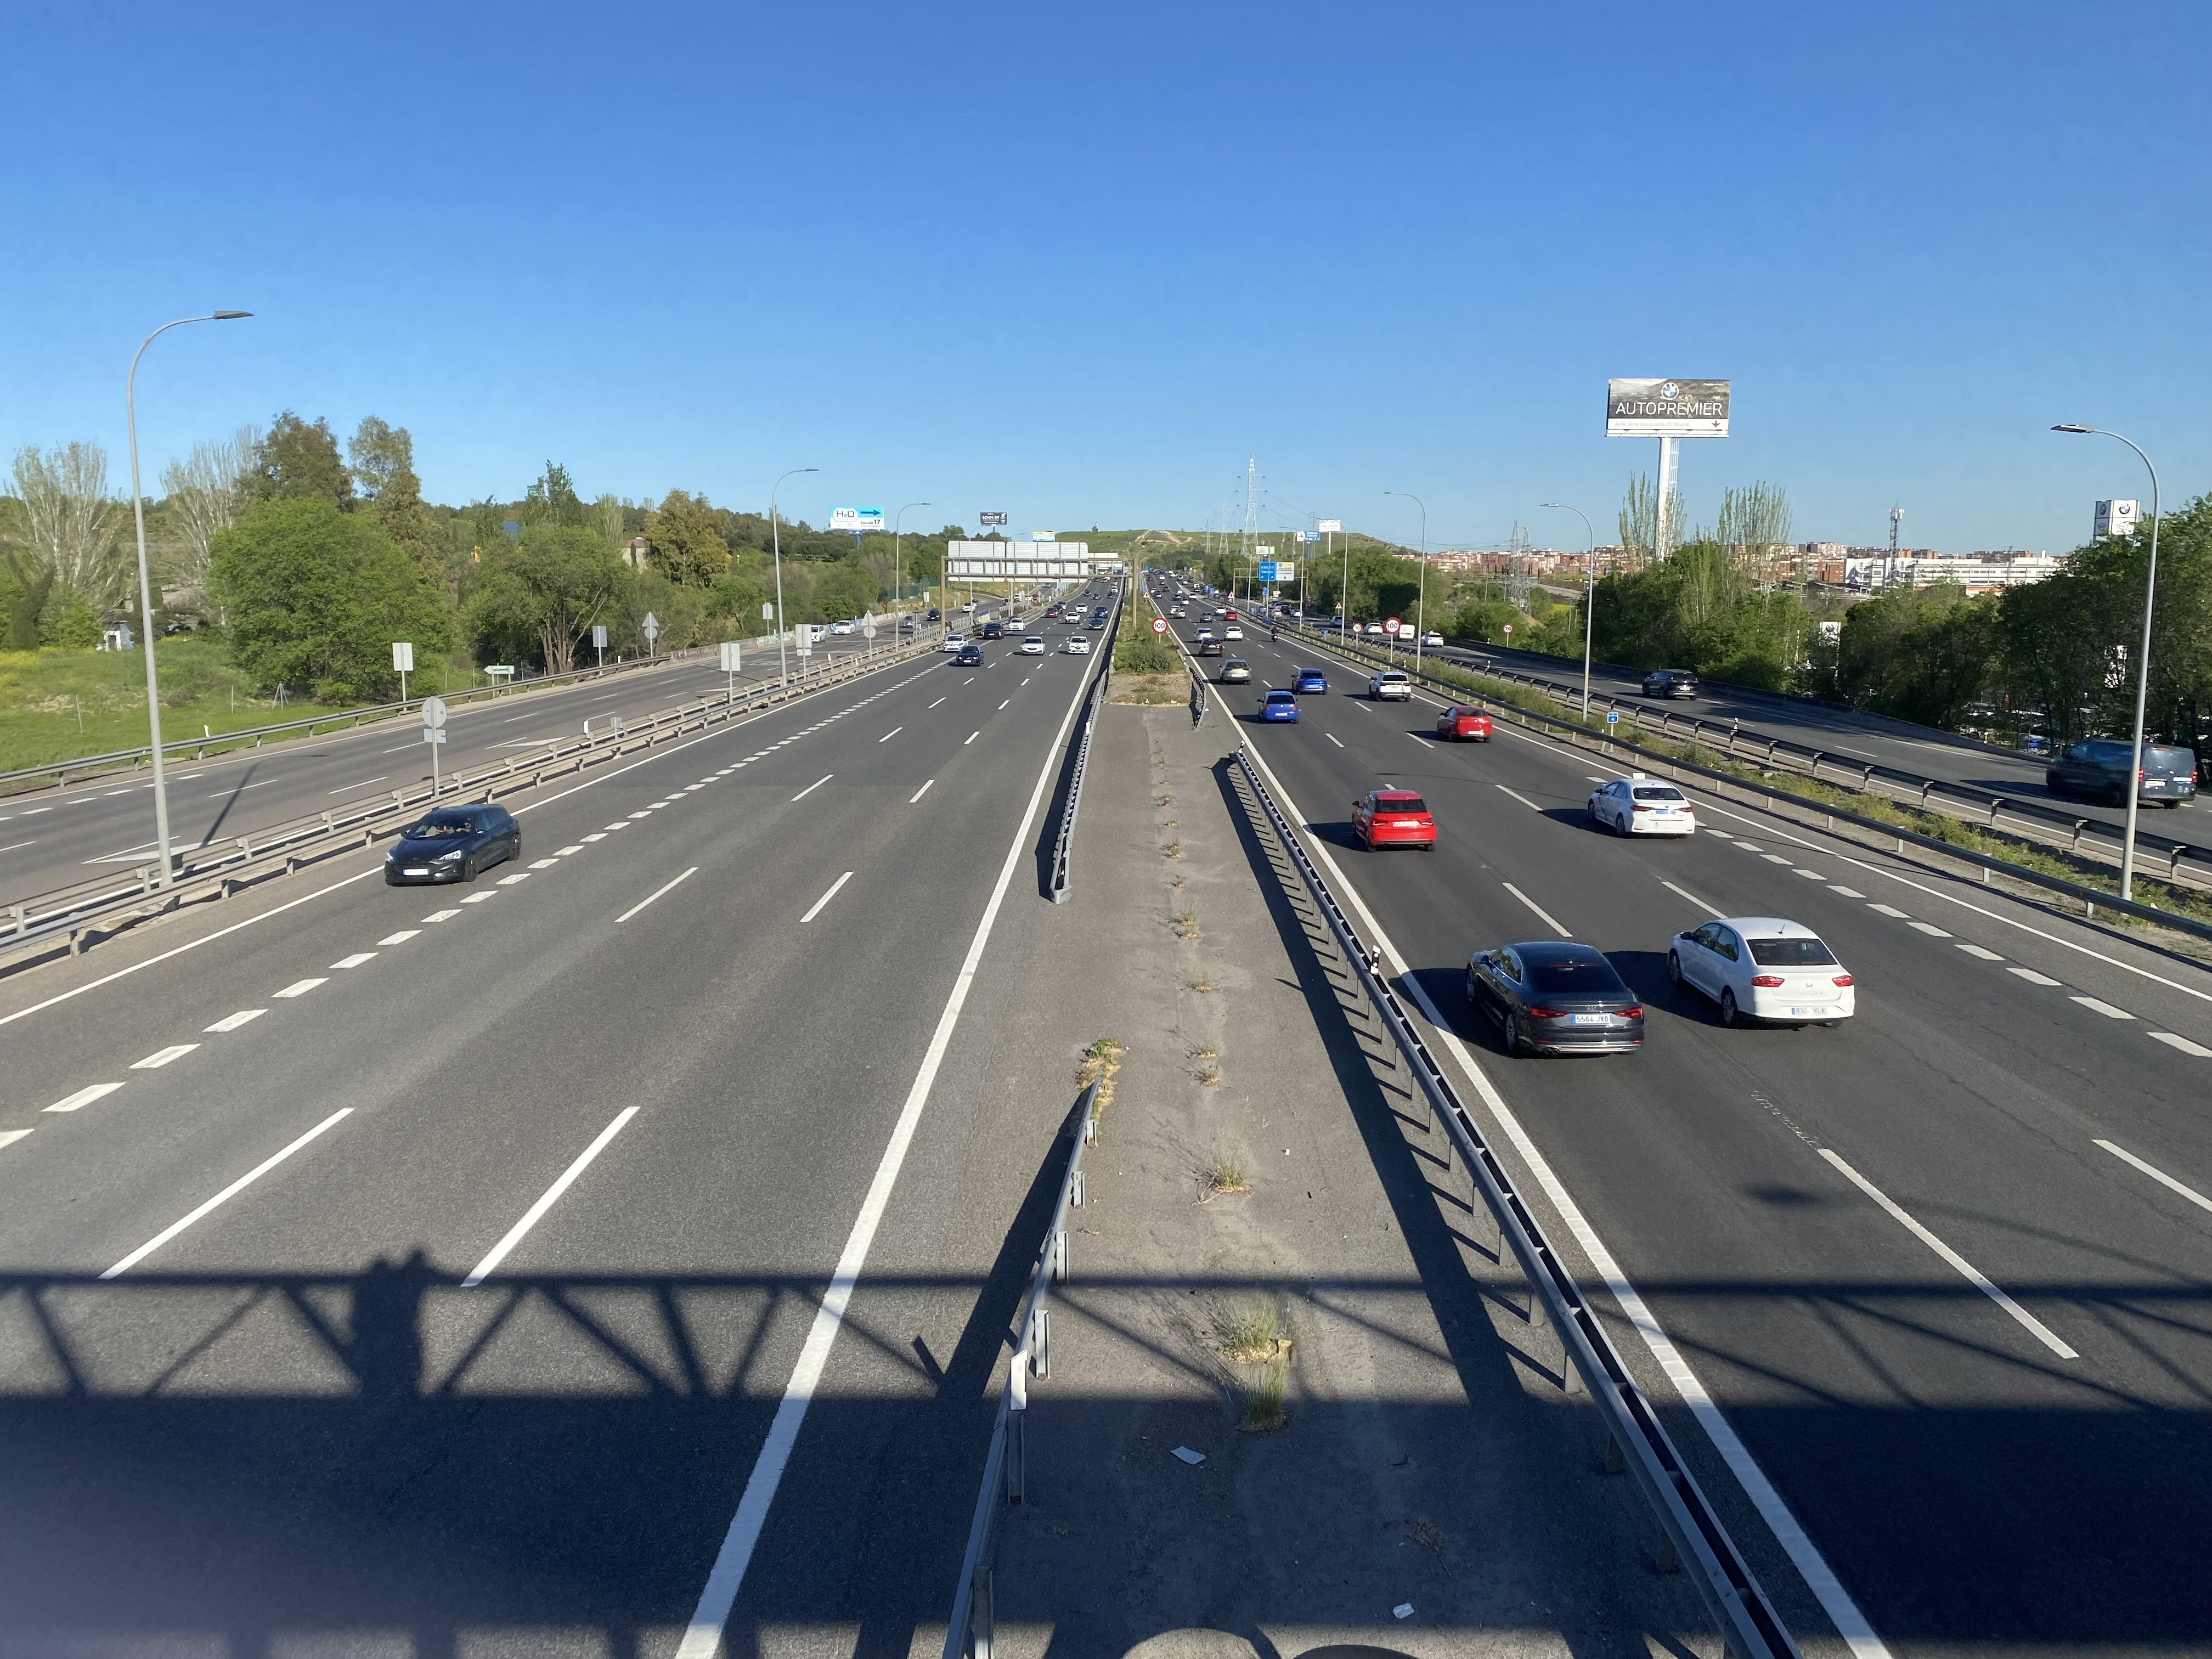cars: (1465, 940, 1644, 1054), (1668, 917, 1854, 1026), (385, 803, 521, 885), (1588, 775, 1696, 835), (1353, 786, 1436, 850), (1436, 705, 1493, 741), (1641, 669, 1700, 699), (1257, 690, 1299, 723), (1368, 670, 1411, 701), (1291, 667, 1328, 694), (1217, 659, 1251, 683), (1194, 631, 1223, 657), (954, 641, 983, 666), (1063, 636, 1091, 655), (1018, 636, 1045, 655), (980, 618, 1003, 639), (942, 633, 966, 652), (1088, 607, 1109, 629), (1423, 631, 1444, 647), (1006, 618, 1025, 634), (1224, 625, 1243, 640)
